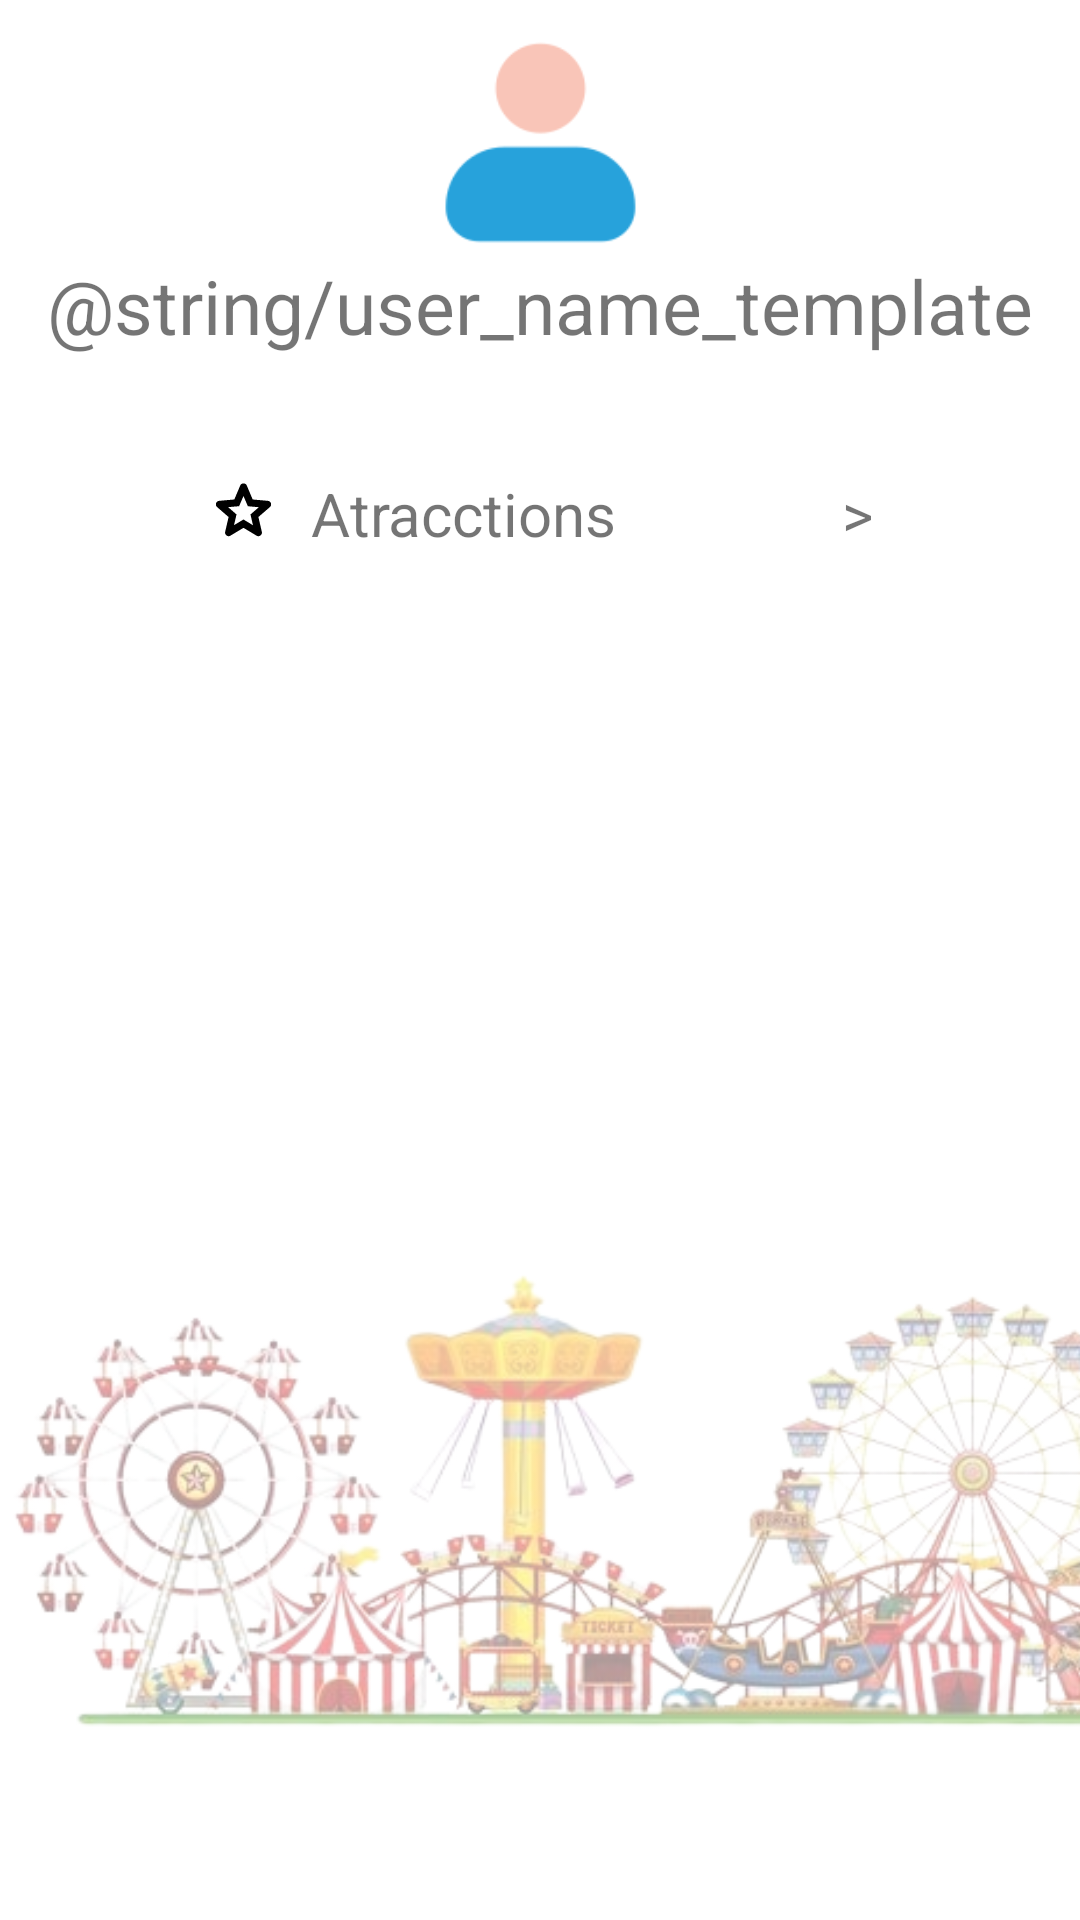

Named icons in this screenshot (1080px x 1920px) and their bounding boxes, (x1, y1, x2, y2):
star: (216, 483, 271, 537)
